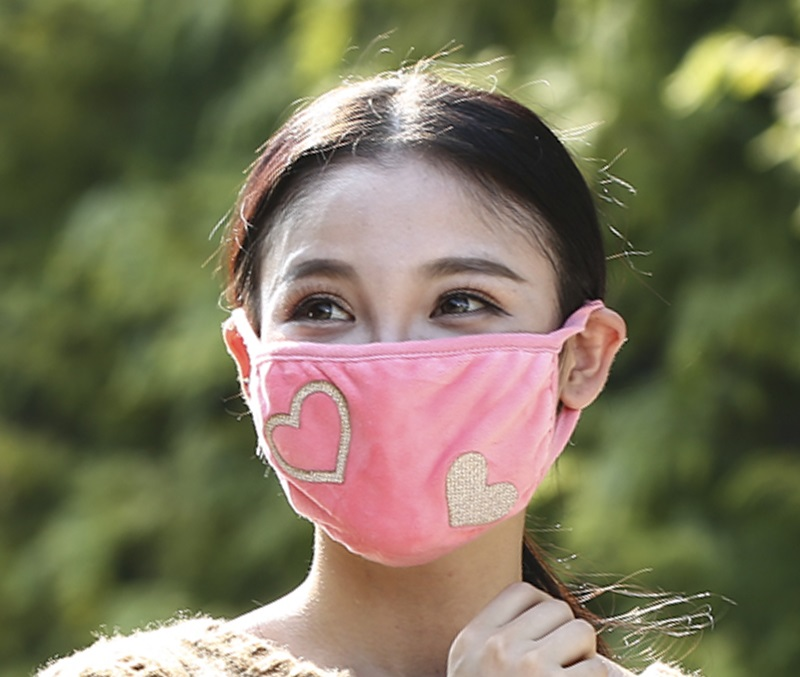face_mask: (252, 165, 556, 527)
